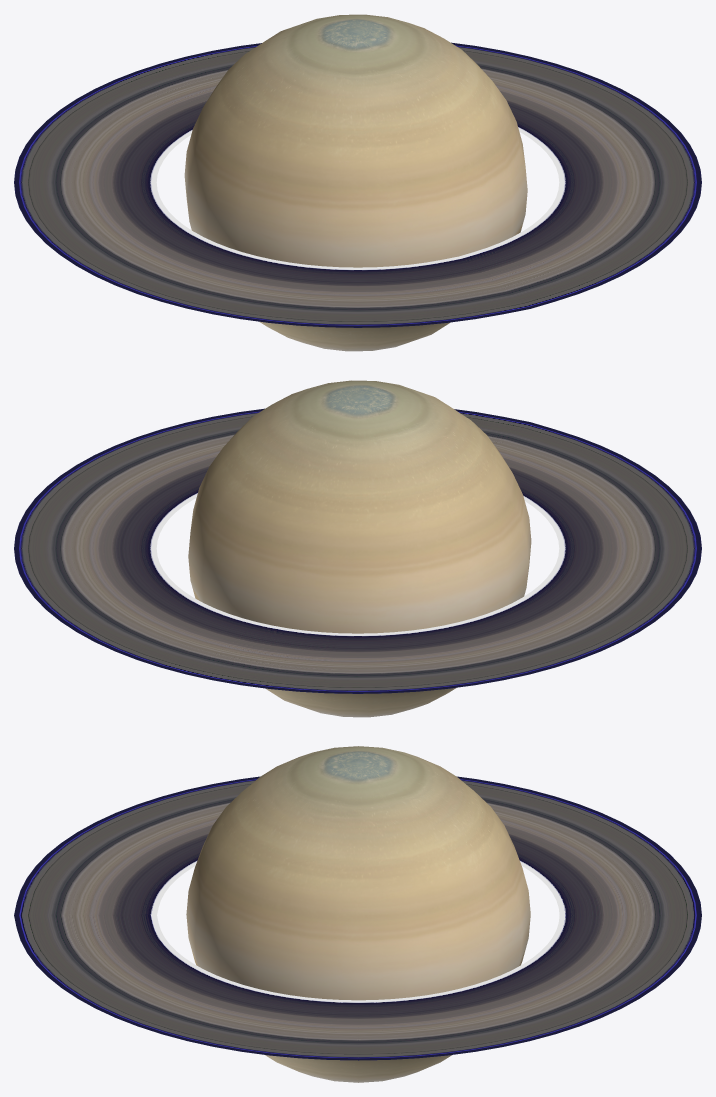
File: Saturn.fbx
The picture shows the model from 3 angles, top to bottom: view 1: azimuth 30°, elevation 25°; view 2: azimuth 150°, elevation 25°; view 3: azimuth 270°, elevation 25°; orthographic projection.
Parts seen in each view (by area): view 1: Saturn; view 2: Saturn; view 3: Saturn.
Part boxes in pixels (left/top/right/bottom): Saturn: left=14, top=14, right=701, bottom=351; Saturn: left=14, top=380, right=701, bottom=717; Saturn: left=14, top=746, right=701, bottom=1082.
Size of the model in its own units: 473 by 231 by 473.
Materials: 2 (2 with a texture image).
